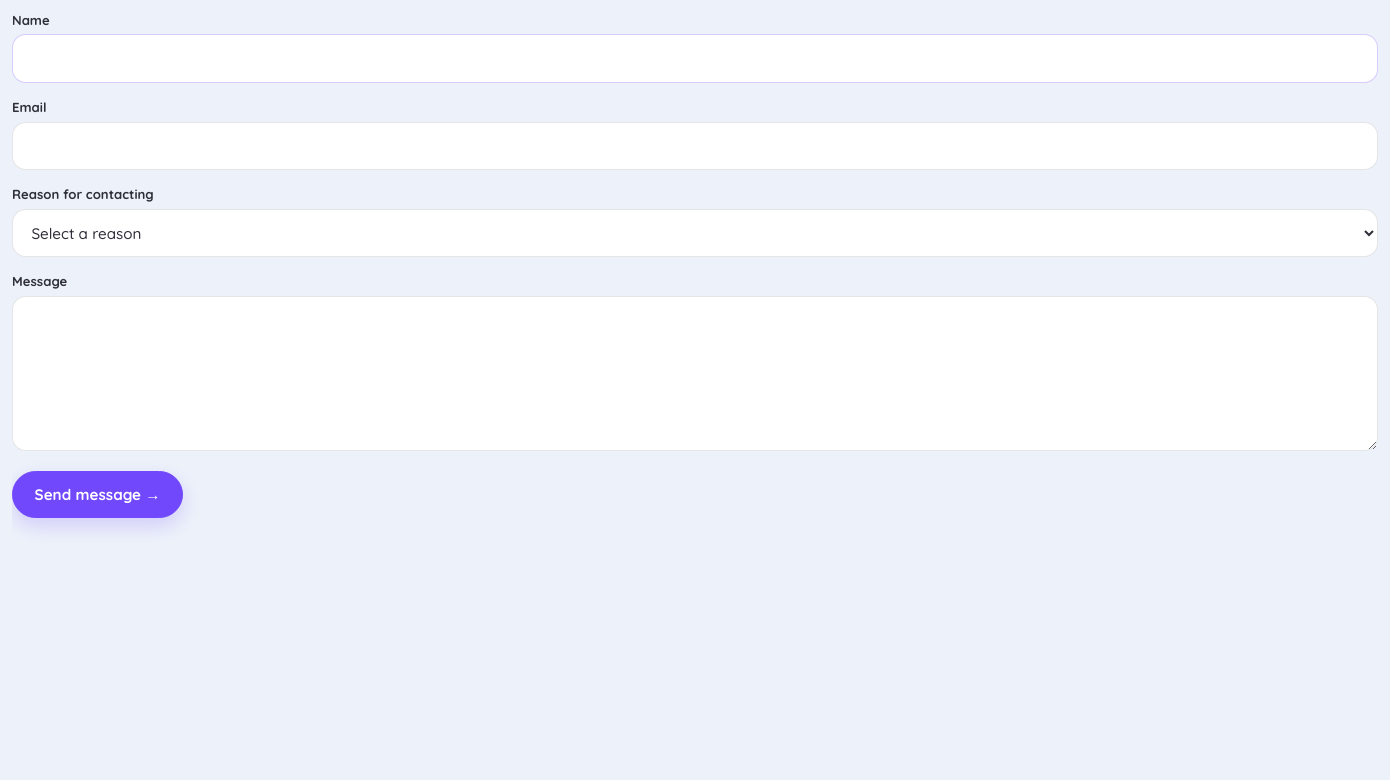
ContactForm › shows validation messages for an empty submit
This screenshot has width=1390, height=780.
Click the button "Send message →": x=98, y=494 [12, 471, 183, 518]
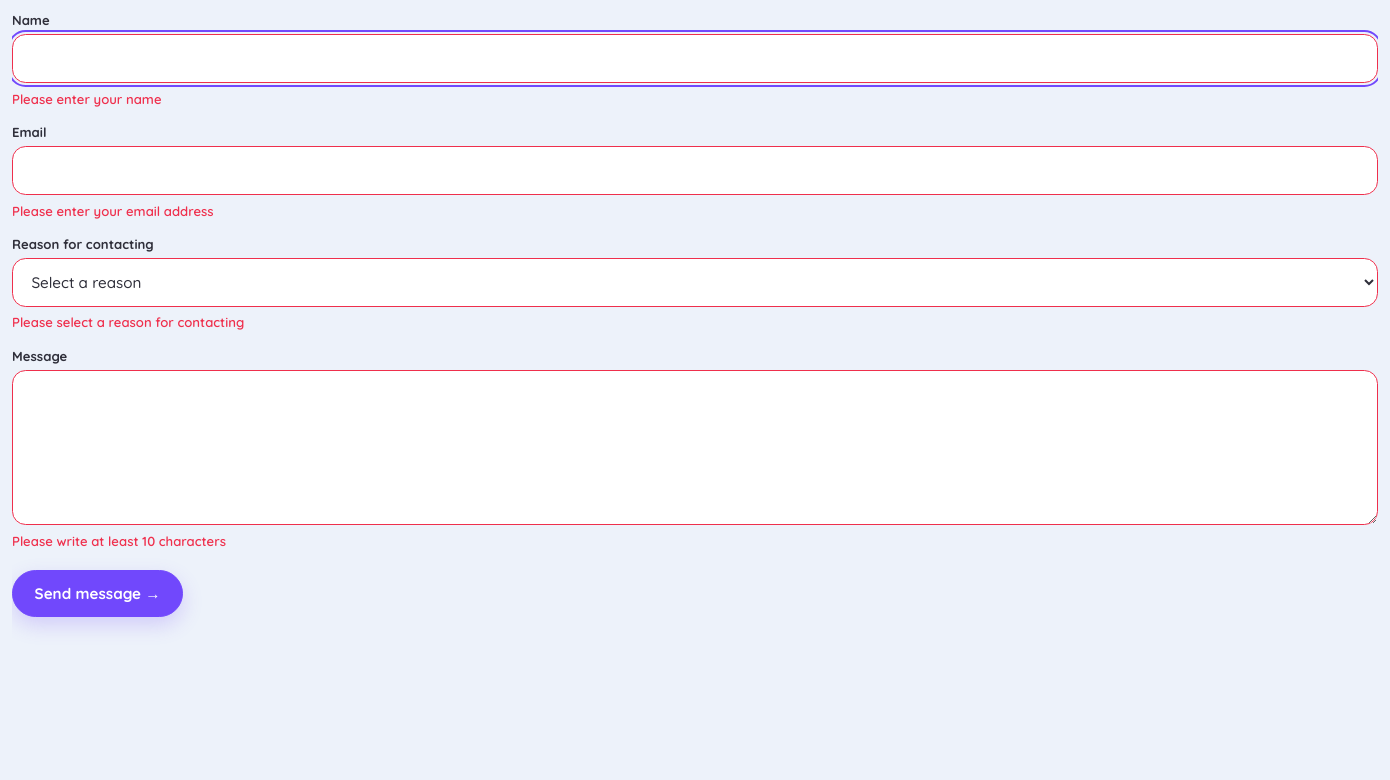
expect the text "Please enter your name" is shown: met, box [12, 91, 162, 107]
expect the text "Please enter your email address" is shown: met, box [12, 203, 214, 219]
expect the text "Please select a reason for contacting" is shown: met, box [12, 314, 244, 330]
